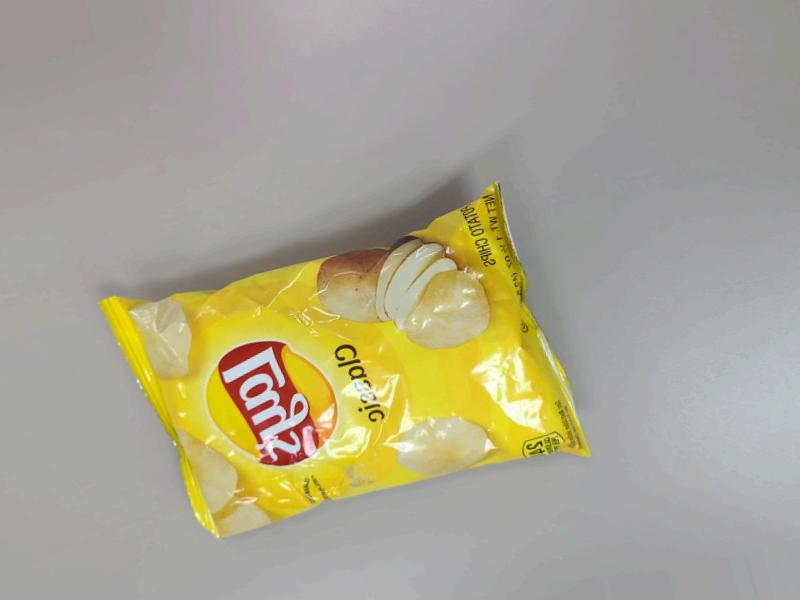lays: (160, 201, 561, 443)
